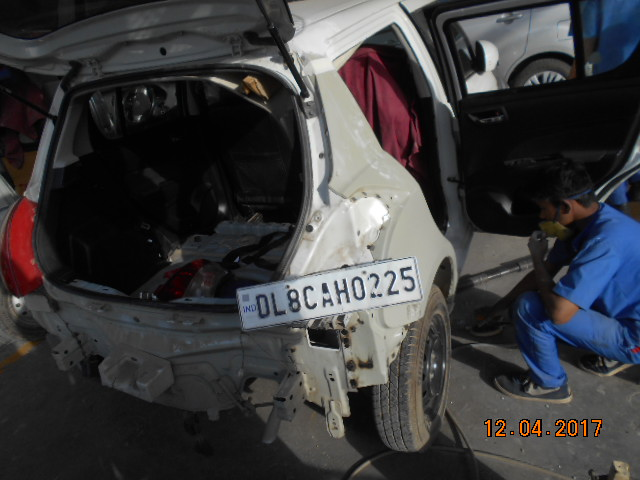Large_tear_or_damage: (7, 234, 449, 444)
